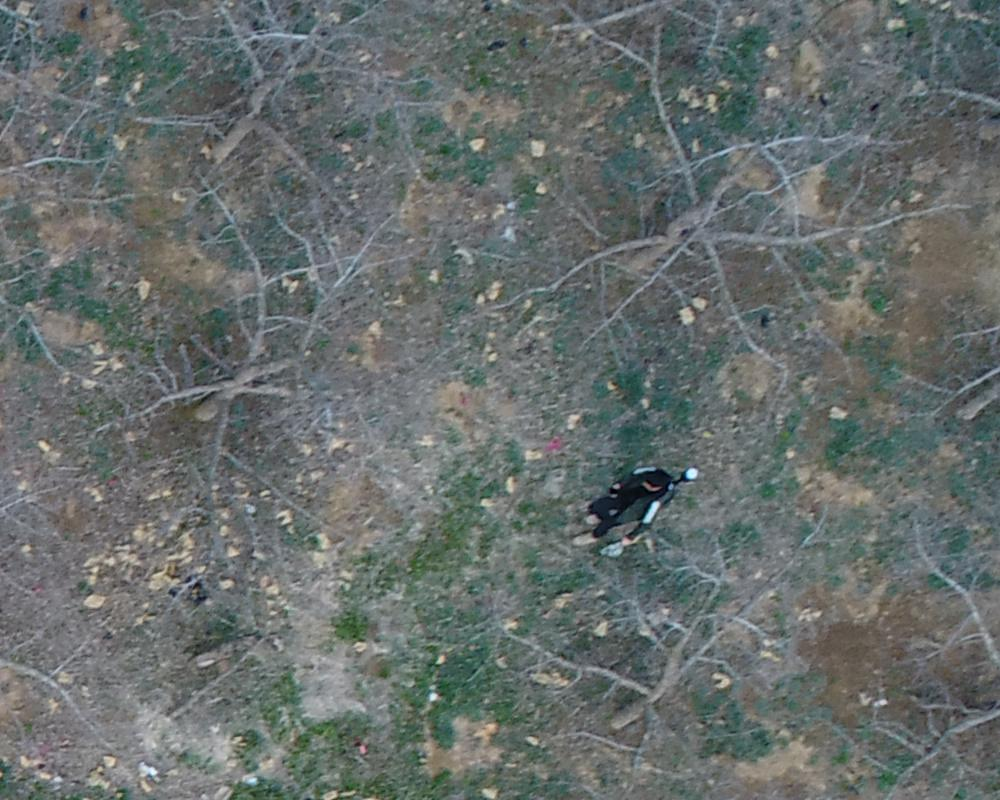apple: (485, 33, 953, 397), (492, 504, 833, 790), (100, 191, 340, 508)
